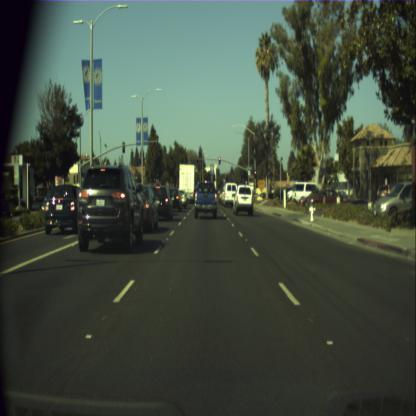Red: (218, 156, 220, 164), (254, 170, 256, 178), (196, 156, 198, 163), (249, 174, 250, 182)
